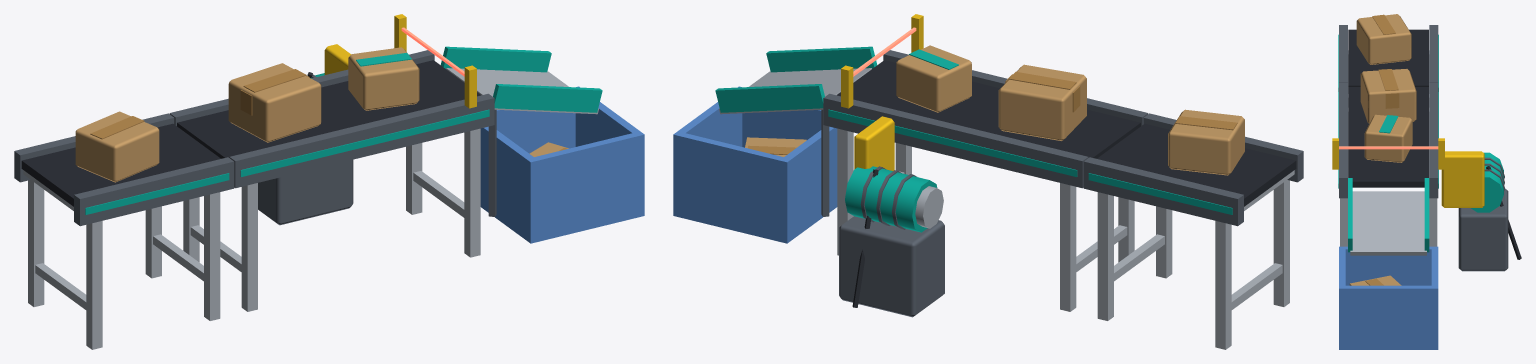
Rendered from station_transport_1.glb.
3 views of the same model, side by side, from view 1: azimuth 30°, elevation 25°; view 2: azimuth 150°, elevation 25°; view 3: azimuth 270°, elevation 25° (orthographic). The views are drawn at different scales.
Parts seen in each view (by area): view 1: station_transport_1; view 2: station_transport_1; view 3: station_transport_1.
Part boxes in pixels (<box>): station_transport_1: <box>14,14,644,349</box>; station_transport_1: <box>673,14,1303,349</box>; station_transport_1: <box>1332,14,1521,349</box>.
Bounding box in the file's own units: 2.18 × 0.714 × 0.8395.
